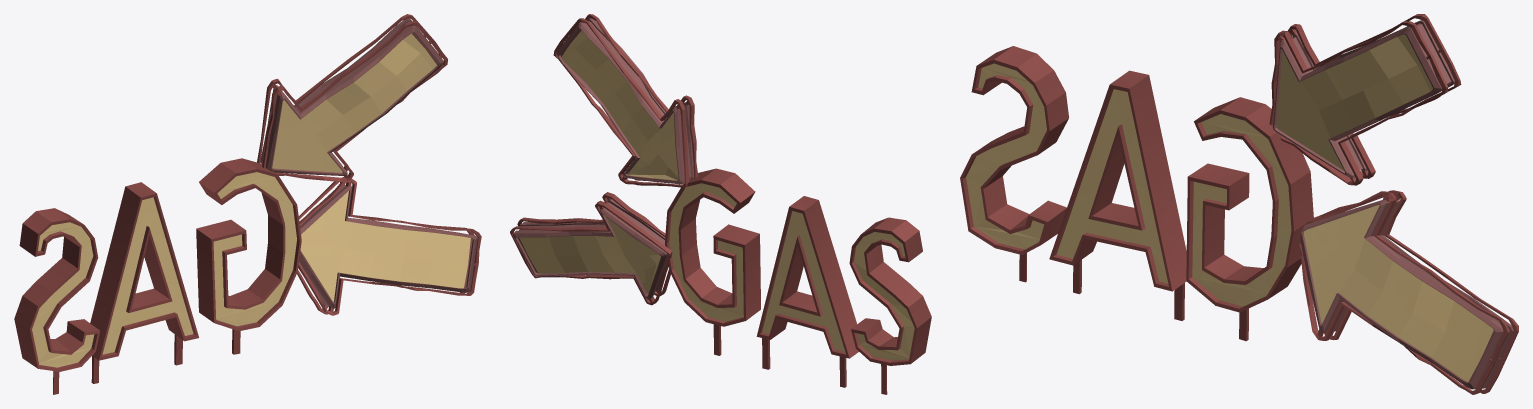
Rendered from gas_banner_1.glb.
3 views of the same model, side by side, from view 1: azimuth 30°, elevation 25°; view 2: azimuth 150°, elevation 25°; view 3: azimuth 330°, elevation 25° (orthographic). The views are drawn at different scales.
Visible parts, largest first — view 1: gas_text, gas_arrow_1, gas_arrow_2, gas_arrow_2_neon, gas_arrow_1_neon; view 2: gas_text, gas_arrow_1, gas_arrow_2, gas_arrow_2_neon, gas_arrow_1_neon; view 3: gas_text, gas_arrow_2, gas_arrow_1, gas_arrow_1_neon, gas_arrow_2_neon.
Boxes of the visible parts, box(x1,y1,x2,y2) form: gas_text: box(14, 158, 301, 394); gas_arrow_1: box(260, 19, 444, 175); gas_arrow_2: box(298, 184, 477, 308); gas_arrow_2_neon: box(257, 14, 447, 182); gas_arrow_1_neon: box(297, 179, 481, 315); gas_text: box(665, 168, 931, 394); gas_arrow_1: box(556, 18, 693, 184); gas_arrow_2: box(512, 199, 668, 300); gas_arrow_2_neon: box(553, 14, 698, 187); gas_arrow_1_neon: box(510, 192, 672, 305); gas_text: box(960, 46, 1313, 341); gas_arrow_2: box(1300, 200, 1513, 389); gas_arrow_1: box(1272, 20, 1454, 178); gas_arrow_1_neon: box(1298, 190, 1518, 394); gas_arrow_2_neon: box(1269, 14, 1461, 185).
Bounding box in the file's own units: 6.02 × 3.99 × 0.8372.
Materials: 1 (1 with a texture image).
